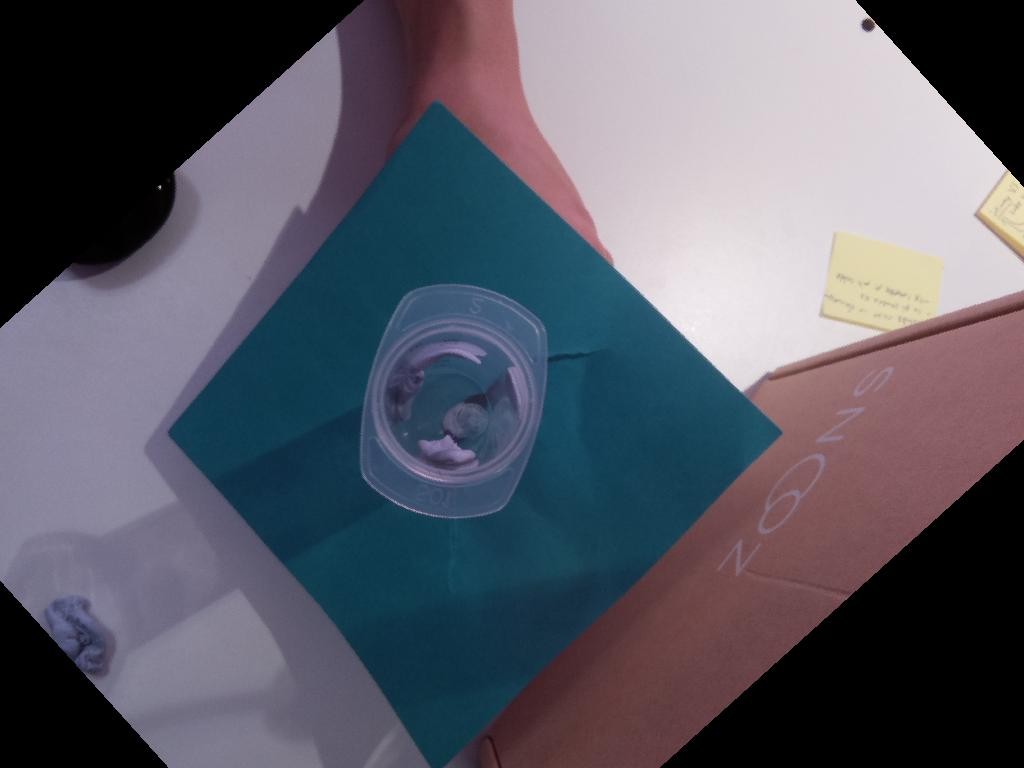dirty: (357, 281, 547, 519)
